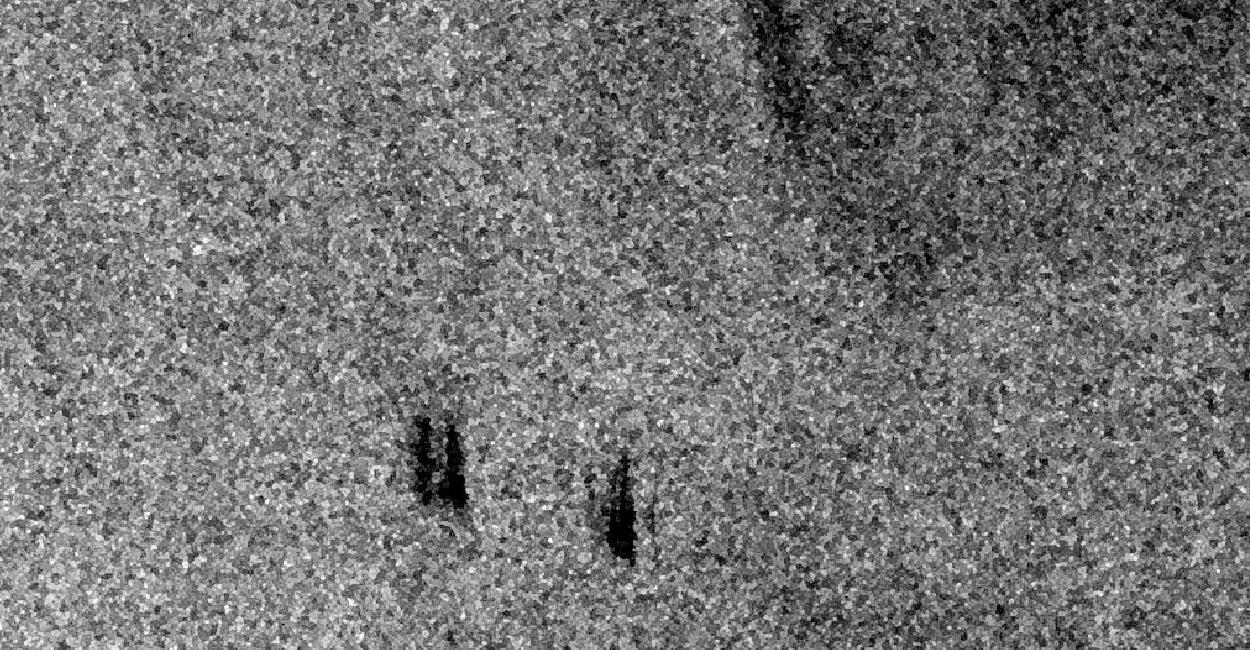Look-alike: (740, 0, 1224, 164)
Oil Spill: (406, 409, 470, 520), (588, 448, 638, 568), (432, 472, 438, 482), (442, 454, 446, 462), (616, 486, 620, 493), (432, 442, 438, 446), (438, 448, 444, 452), (432, 452, 436, 456), (604, 526, 608, 530), (444, 438, 446, 442)
